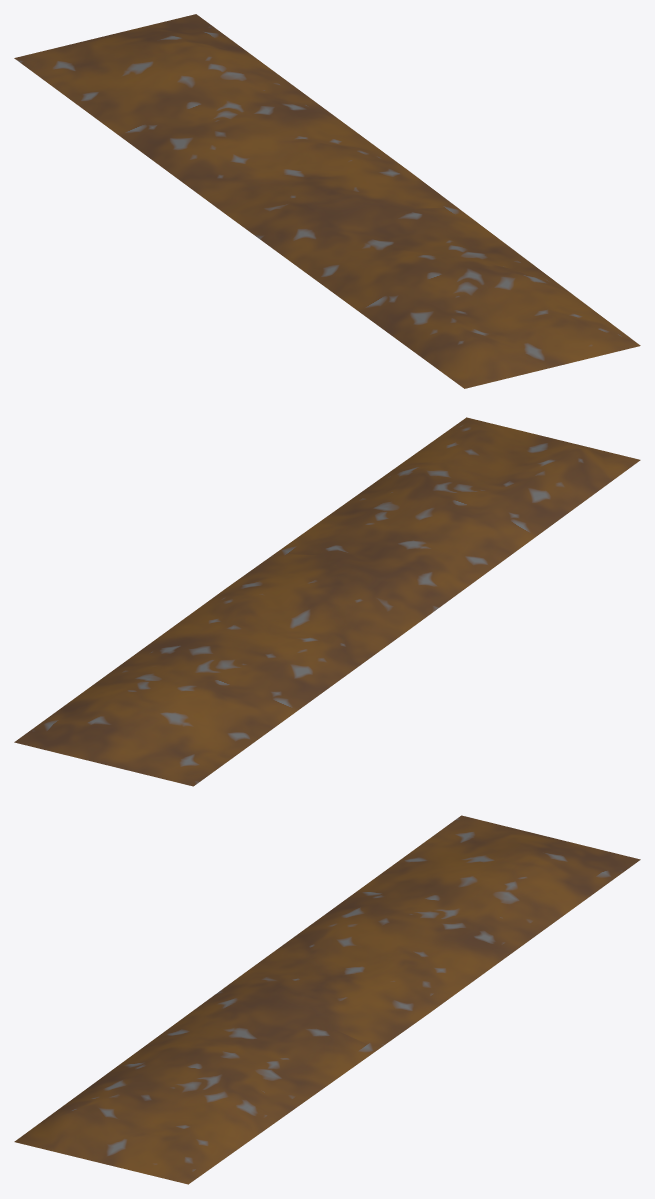
Rendered from DirtMound.glb.
3 renders of one model, top to bottom at view 1: azimuth 30°, elevation 25°; view 2: azimuth 150°, elevation 25°; view 3: azimuth 330°, elevation 25°, orthographic.
Visible parts, largest first — view 1: sm_building_player.061; view 2: sm_building_player.061; view 3: sm_building_player.061.
Part boxes in pixels (bbox=[...]): sm_building_player.061: bbox=[14, 14, 640, 388]; sm_building_player.061: bbox=[14, 417, 640, 786]; sm_building_player.061: bbox=[14, 815, 640, 1184].
Size of the model in its own units: 2.22 by 0.2386 by 9.48.
Materials: 1 (1 with a texture image).
